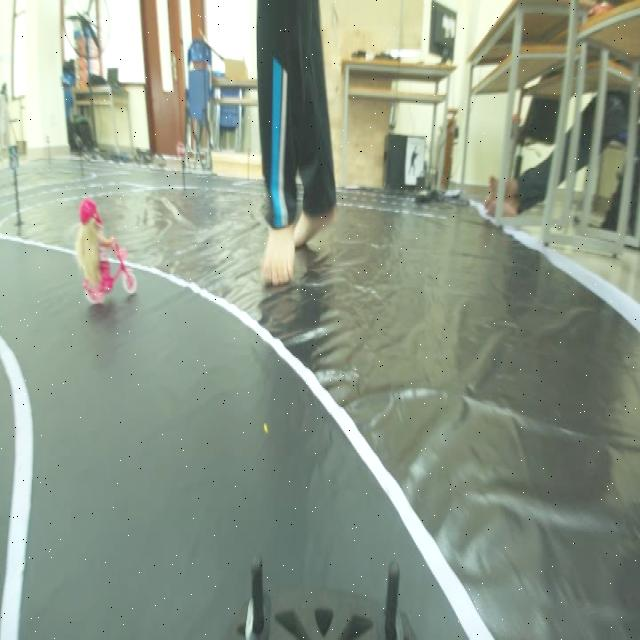pedestrian: (65, 193, 147, 322)
